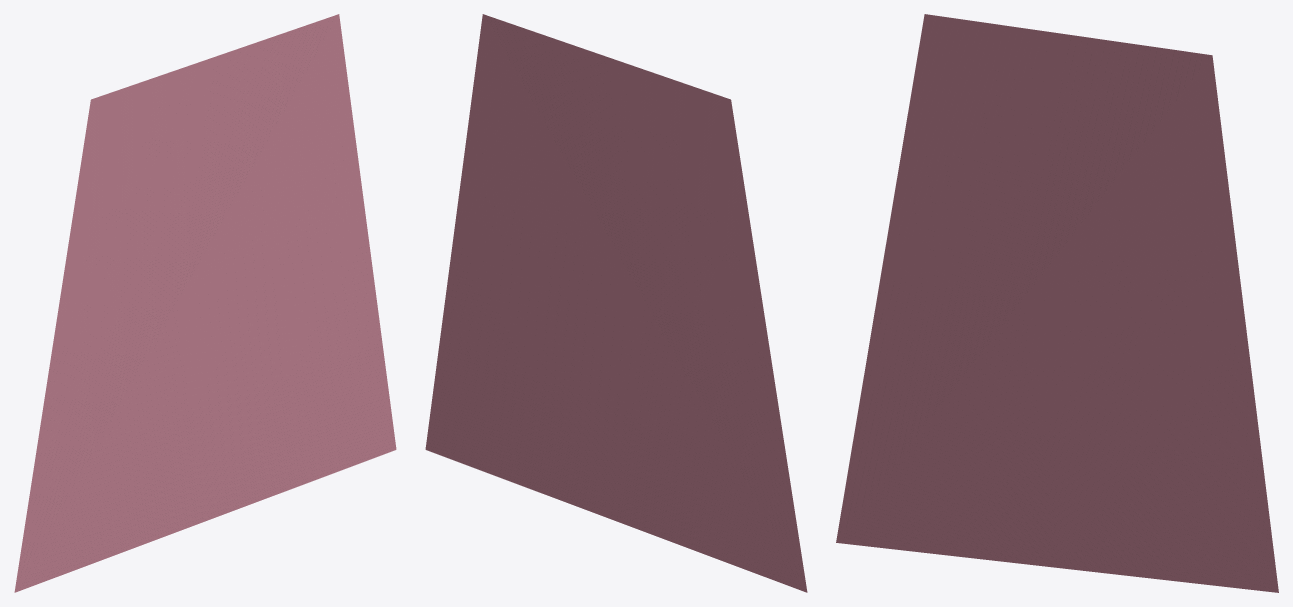
The model's file is SM_Sakura_Petal.glb.
The picture shows the model from 3 angles, left to right: view 1: azimuth 30°, elevation 25°; view 2: azimuth 150°, elevation 25°; view 3: azimuth 330°, elevation 25°; orthographic projection. The views are drawn at different scales.
Parts seen in each view (by area): view 1: asset_petal; view 2: asset_petal; view 3: asset_petal.
Boxes of the visible parts, left/top/right/bottom form: asset_petal: left=14, top=14, right=396, bottom=592; asset_petal: left=425, top=14, right=807, bottom=592; asset_petal: left=836, top=14, right=1278, bottom=592.
Bounding box in the file's own units: 0.024 × 0.03 × 0.
1 material, 1 textured.
